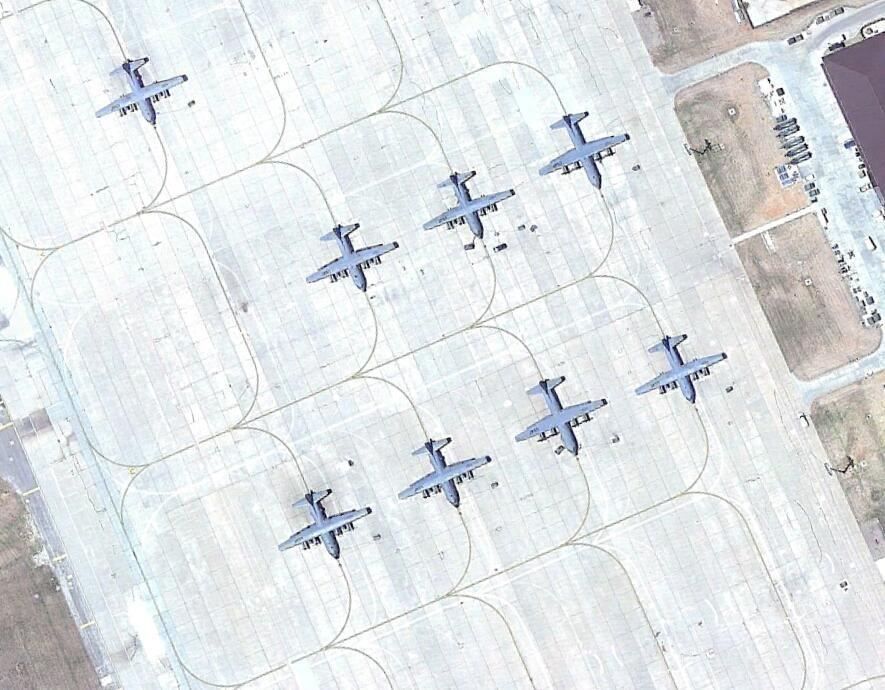A2: (534, 106, 635, 190), (512, 374, 611, 459), (395, 435, 493, 513), (273, 487, 372, 562), (633, 332, 728, 410), (420, 169, 515, 245), (96, 55, 189, 131), (307, 223, 400, 293)
